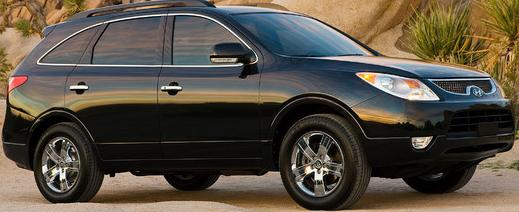backlight: (6, 74, 32, 95)
front_view: (354, 67, 517, 163)
headlight: (355, 68, 444, 107)
side_glass: (37, 16, 260, 72)
